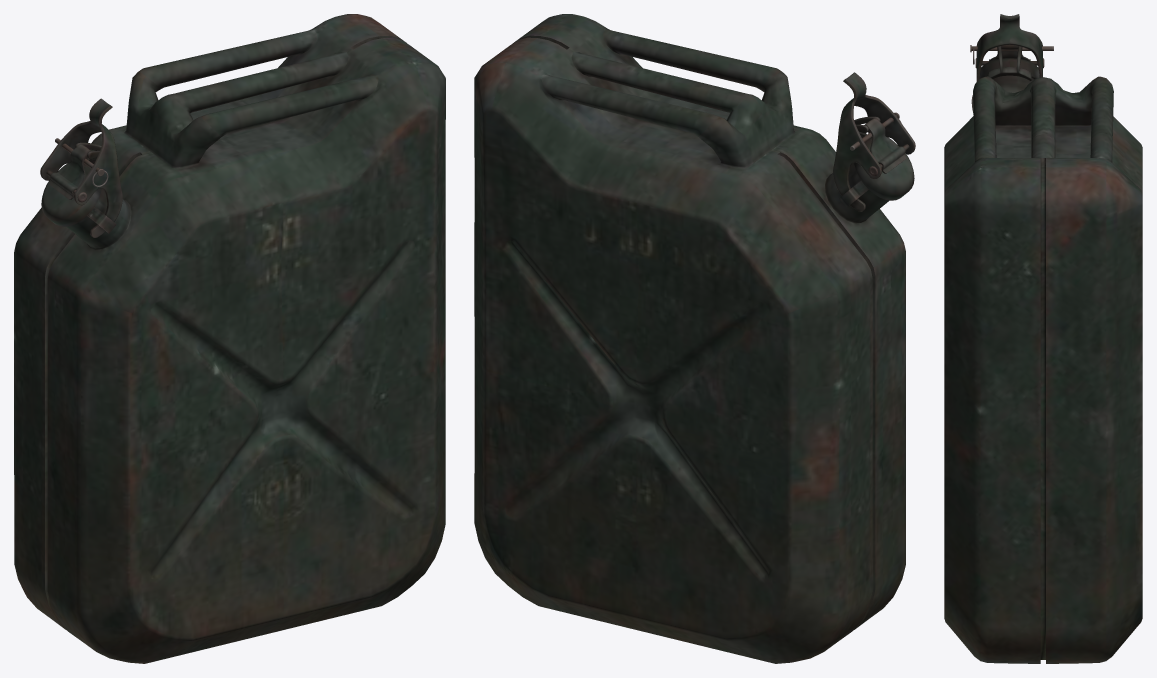
The model's file is metal_jerrycan_green.glb.
3 renders of one model, left to right at view 1: azimuth 30°, elevation 25°; view 2: azimuth 150°, elevation 25°; view 3: azimuth 270°, elevation 25°, orthographic. The views are drawn at different scales.
Visible parts, largest first — view 1: metal_jerrycan_green_body, metal_jerrycan_green_latch, metal_jerrycan_green_cap; view 2: metal_jerrycan_green_body, metal_jerrycan_green_latch, metal_jerrycan_green_cap; view 3: metal_jerrycan_green_body, metal_jerrycan_green_latch, metal_jerrycan_green_cap, metal_jerrycan_green_fastener.
Part boxes in pixels (bbox=[...]): metal_jerrycan_green_body: bbox=[14, 14, 445, 663]; metal_jerrycan_green_latch: bbox=[40, 98, 122, 237]; metal_jerrycan_green_cap: bbox=[41, 144, 101, 226]; metal_jerrycan_green_body: bbox=[474, 14, 905, 663]; metal_jerrycan_green_latch: bbox=[833, 72, 915, 211]; metal_jerrycan_green_cap: bbox=[854, 118, 914, 200]; metal_jerrycan_green_body: bbox=[944, 75, 1142, 663]; metal_jerrycan_green_latch: bbox=[975, 14, 1044, 81]; metal_jerrycan_green_cap: bbox=[980, 44, 1039, 79]; metal_jerrycan_green_fastener: bbox=[988, 46, 1031, 80].
Bounding box in the file's own units: 0.3605 × 0.4999 × 0.1708.
1 material, 1 textured.
